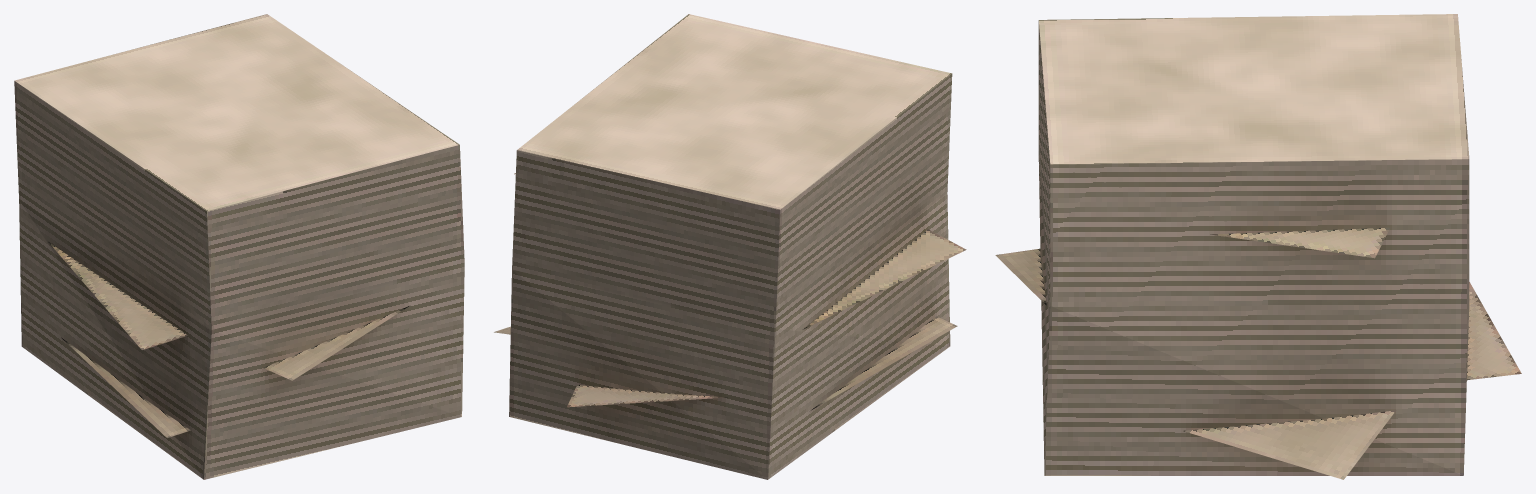
File: paper_stack.glb
3 views of the same model, side by side, from view 1: azimuth 30°, elevation 25°; view 2: azimuth 150°, elevation 25°; view 3: azimuth 270°, elevation 25° (orthographic). The views are drawn at different scales.
Parts seen in each view (by area): view 1: PaperStack1; view 2: PaperStack1; view 3: PaperStack1.
Part boxes in pixels (bbox=[...]): PaperStack1: bbox=[14, 14, 464, 479]; PaperStack1: bbox=[494, 14, 966, 479]; PaperStack1: bbox=[995, 14, 1521, 479].
Size of the model in its own units: 0.749 by 0.5298 by 0.8127.
1 material, 1 textured.
